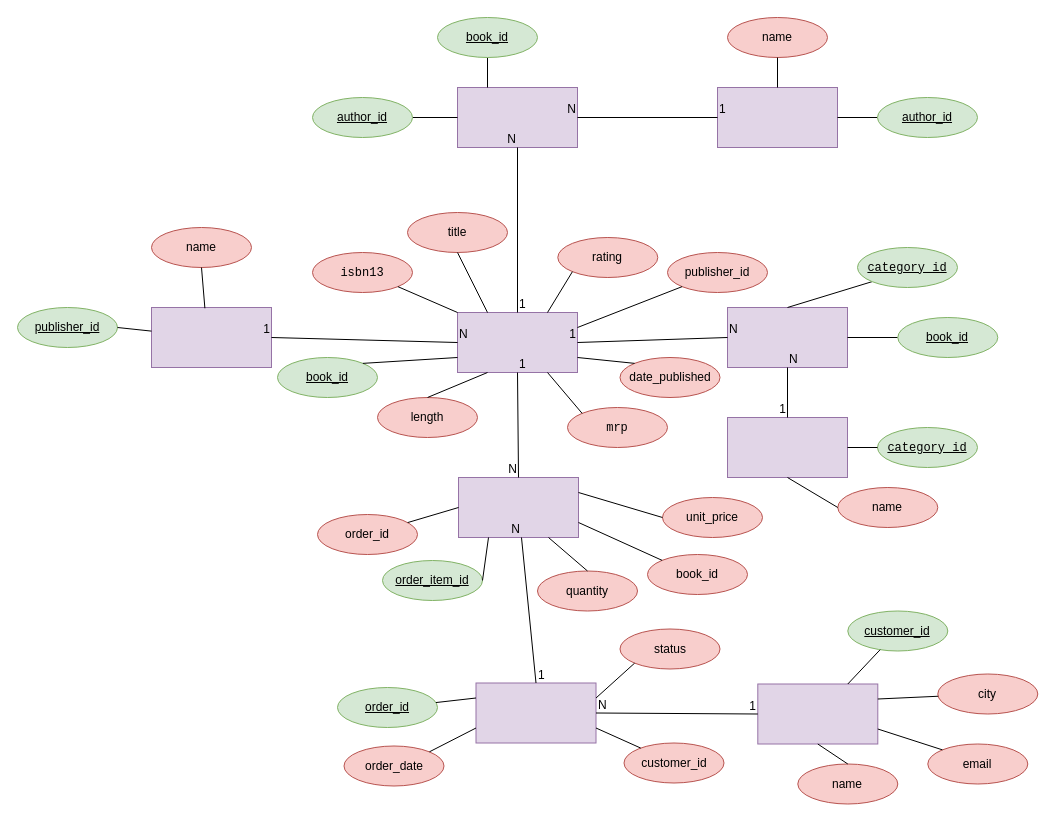
This 1056x822 diagram has some shape labels left out. The centre of each missing label's shape, as x and y in pixels:
author_books: the point at 517,117
authors: the point at 777,117
book_categories: the point at 787,337
books: the point at 517,342
categories: the point at 787,447
customers: the point at 817,713
order_items: the point at 518,507
orders: the point at 535,712
publishers: the point at 211,337
